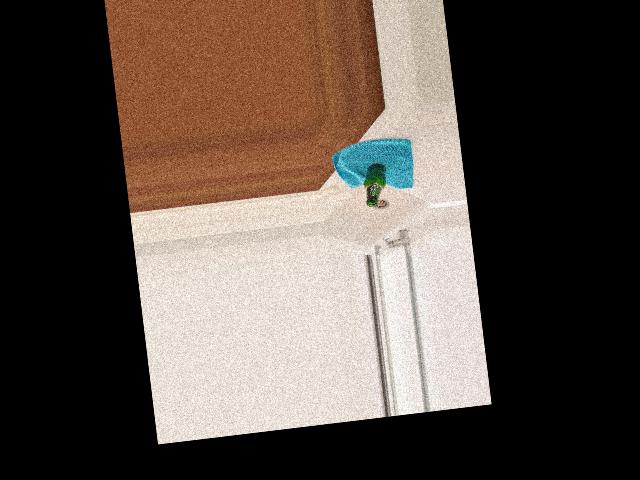beer: (361, 161, 389, 206)
